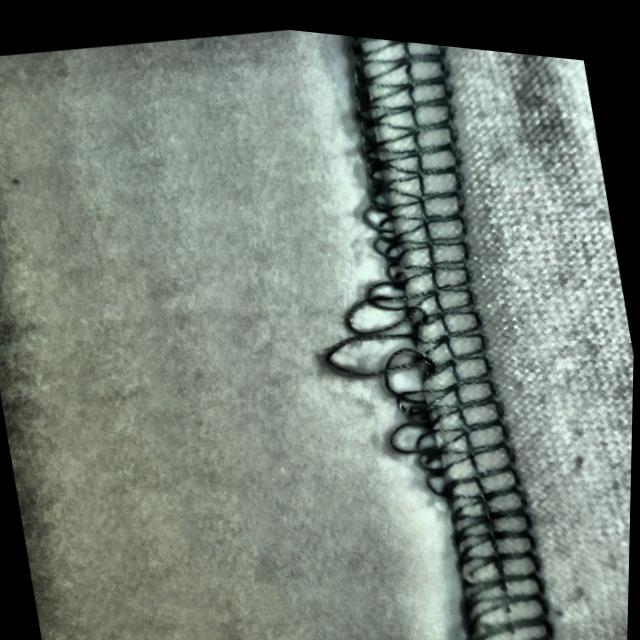Stitch: (293, 171, 544, 515)
